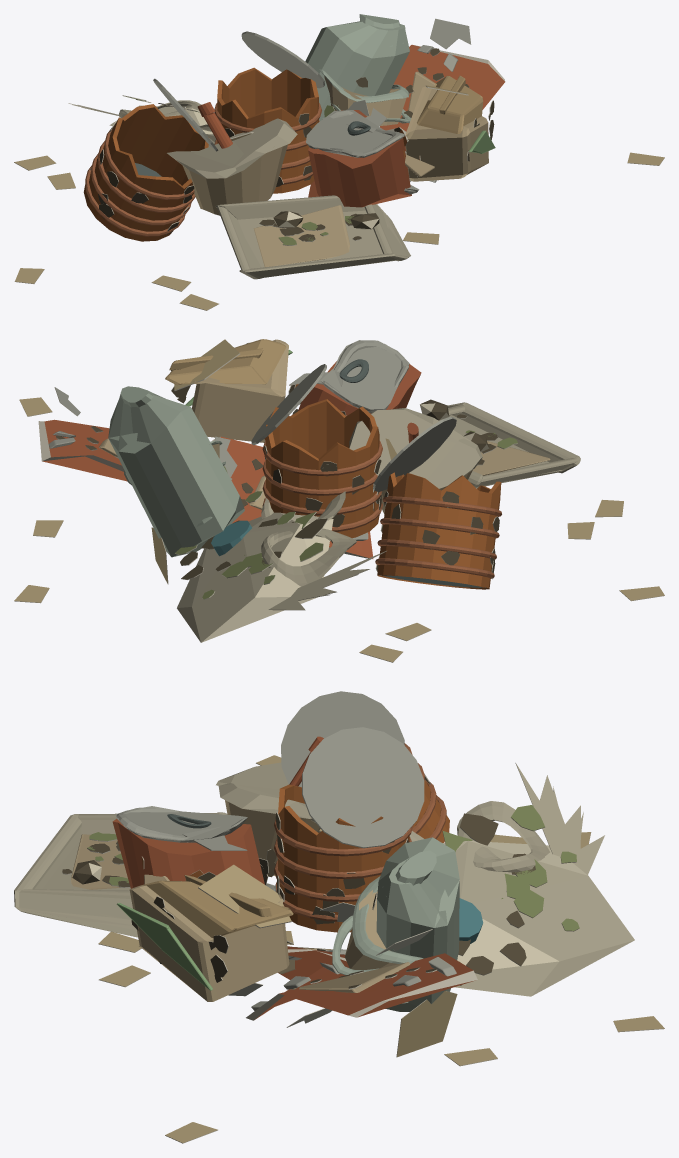
Rendered from Dirty_Litter_Heap_3.glb.
3 renders of one model, top to bottom at view 1: azimuth 30°, elevation 25°; view 2: azimuth 150°, elevation 25°; view 3: azimuth 270°, elevation 25°, orthographic. The views are drawn at different scales.
Visible parts, largest first — view 1: Litter; view 2: Litter; view 3: Litter.
Boxes of the visible parts, x1,y1,x2,y2 form: Litter: [14, 14, 664, 310]; Litter: [14, 339, 664, 662]; Litter: [14, 691, 664, 1143].
Size of the model in its own units: 1.46 by 0.4453 by 1.03.
